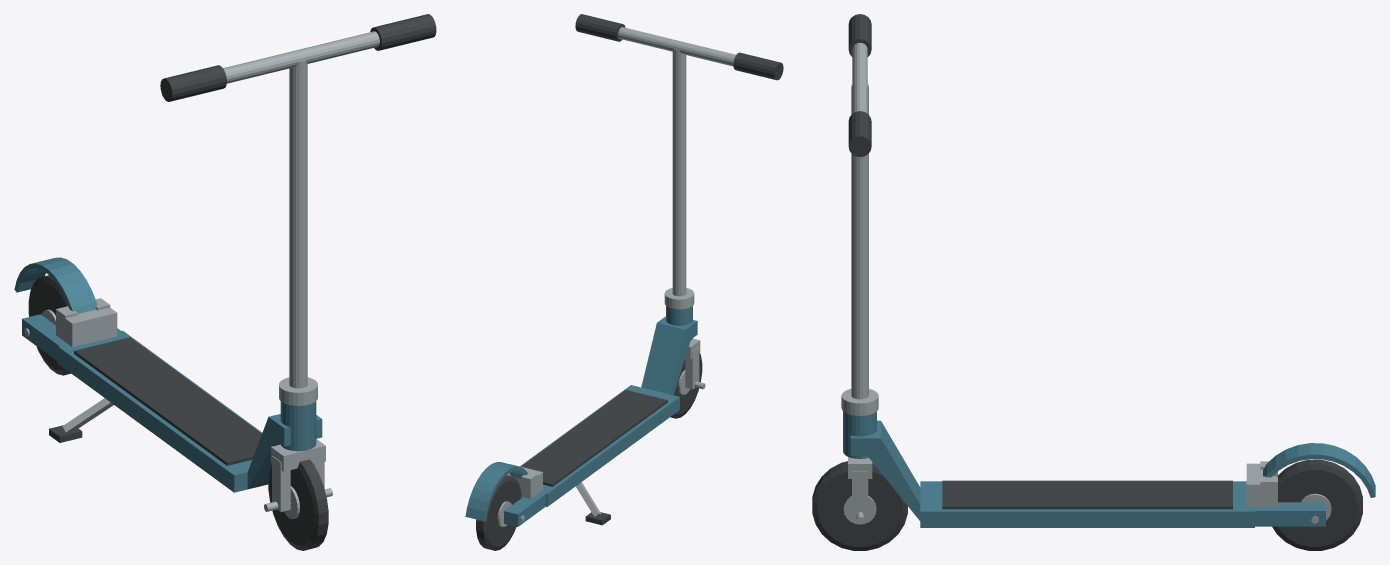
3 renders of one model, left to right at view 1: azimuth 30°, elevation 25°; view 2: azimuth 150°, elevation 25°; view 3: azimuth 270°, elevation 25°, orthographic. The views are drawn at different scales.
Parts seen in each view (by area): view 1: WholeGripSurface, WholeFixedLongSteeringStem, WholeNarrowDeckAndRearForkProngs, FrontWholeGroundFootAnnularTire, WholeTBar, WholeCurvedRearFenderBrakePlate, WholeForkedBrakeRootSeat, WholeRisingFrontDeckNeck, LeftWholeHandleGrip, RightWholeHandleGrip, WholeAnnularSteeringHead, RearWholeGroundFootAnnularTire (+4 smaller); view 2: WholeGripSurface, WholeFixedLongSteeringStem, WholeNarrowDeckAndRearForkProngs, WholeRisingFrontDeckNeck, RearWholeGroundFootAnnularTire, WholeCurvedRearFenderBrakePlate, WholeTBar, LeftWholeHandleGrip, RightWholeHandleGrip, WholeForkedBrakeRootSeat, FrontWholeGroundFootAnnularTire, WholeAnnularHeadClamp (+2 smaller); view 3: WholeNarrowDeckAndRearForkProngs, WholeGripSurface, RearWholeGroundFootAnnularTire, FrontWholeGroundFootAnnularTire, WholeFixedLongSteeringStem, WholeRisingFrontDeckNeck, WholeCurvedRearFenderBrakePlate, WholeForkedBrakeRootSeat, WholeTBar, RightWholeHandleGrip, WholeAnnularSteeringHead, LeftWholeHandleGrip (+2 smaller).
Boxes of the visible parts, x1,y1,x2,y2 form: WholeGripSurface: (74, 337, 261, 465); WholeFixedLongSteeringStem: (289, 60, 307, 388); WholeNarrowDeckAndRearForkProngs: (22, 314, 262, 492); FrontWholeGroundFootAnnularTire: (268, 459, 328, 550); WholeTBar: (223, 31, 379, 83); WholeCurvedRearFenderBrakePlate: (14, 257, 97, 313); WholeForkedBrakeRootSeat: (56, 298, 117, 347); WholeRisingFrontDeckNeck: (247, 414, 322, 489); LeftWholeHandleGrip: (160, 65, 226, 101); RightWholeHandleGrip: (370, 14, 436, 50); WholeAnnularSteeringHead: (280, 401, 316, 451); RearWholeGroundFootAnnularTire: (28, 275, 70, 375); WholeGripSurface: (521, 390, 667, 486); WholeFixedLongSteeringStem: (672, 49, 686, 296); WholeNarrowDeckAndRearForkProngs: (504, 385, 679, 526); WholeRisingFrontDeckNeck: (641, 316, 697, 395); RearWholeGroundFootAnnularTire: (476, 475, 521, 550); WholeCurvedRearFenderBrakePlate: (465, 462, 527, 521); WholeTBar: (618, 27, 735, 66); LeftWholeHandleGrip: (733, 52, 783, 80); RightWholeHandleGrip: (575, 14, 625, 41); WholeForkedBrakeRootSeat: (506, 464, 542, 498); FrontWholeGroundFootAnnularTire: (670, 352, 702, 418); WholeAnnularHeadClamp: (664, 288, 694, 309); WholeNarrowDeckAndRearForkProngs: (920, 481, 1325, 527); WholeGripSurface: (942, 480, 1232, 509); RearWholeGroundFootAnnularTire: (1272, 459, 1362, 550); FrontWholeGroundFootAnnularTire: (812, 461, 907, 550); WholeFixedLongSteeringStem: (851, 84, 868, 399); WholeRisingFrontDeckNeck: (850, 420, 920, 520); WholeCurvedRearFenderBrakePlate: (1263, 443, 1375, 497); WholeForkedBrakeRootSeat: (1246, 461, 1277, 506); WholeTBar: (852, 42, 867, 113); RightWholeHandleGrip: (848, 111, 871, 156); WholeAnnularSteeringHead: (843, 411, 876, 458); LeftWholeHandleGrip: (848, 14, 871, 56).
Size of the model in its own units: 0.528 by 0.953 by 1.03.
